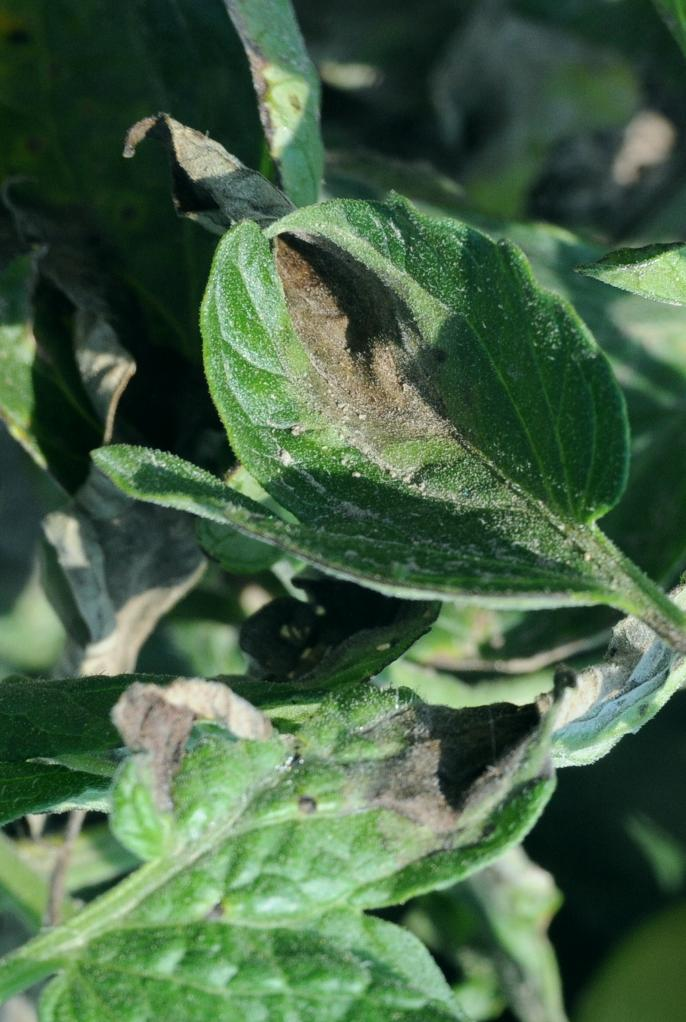Tomato leaf late blight: (163, 142, 639, 615), (45, 643, 543, 996)
